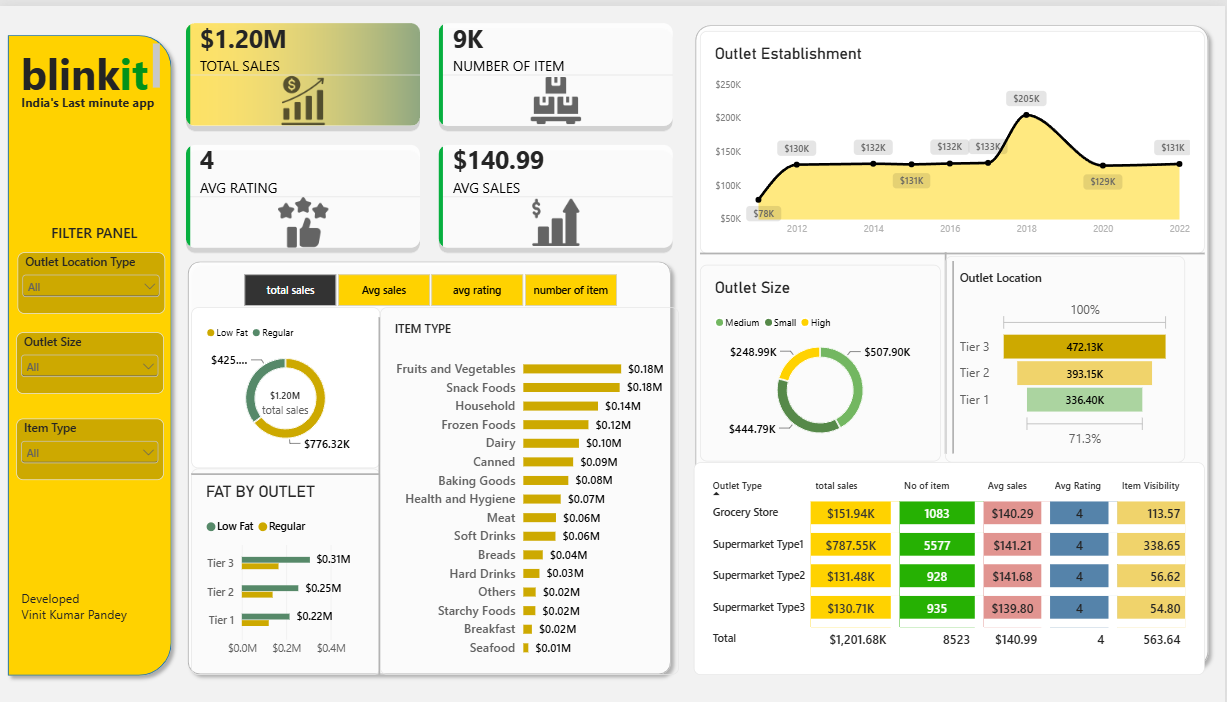

What the dashboard file says about the page in this screenshot:
{"tool":"powerbi","page":{"name":"Page 1","canvas":[1400,800],"ordinal":0},"visuals":[{"type":"shape","box":[0,24.1,205,750],"z":0},{"type":"textbox","box":[24.3,42.9,158.6,57.1],"z":1000},{"type":"textbox","box":[24.3,100,158.6,22.9],"z":2000},{"type":"cardVisual","fields":{"Data":["BlinkIT Grocery Data.total sales","BlinkIT Grocery Data.number of item","BlinkIT Grocery Data.avg rating","BlinkIT Grocery Data.Avg sales"]},"box":[205.1,13.4,570,270],"z":3000},{"type":"shape","box":[205.7,282.9,570,490],"z":4000},{"type":"slicer","fields":{"Values":["Metrics.Metrics"]},"box":[258.7,304.3,465,40],"z":5000},{"type":"donutChart","fields":{"Y":["BlinkIT Grocery Data.total sales"],"Category":["BlinkIT Grocery Data.Item Fat Content"]},"box":[218.5,344.5,215.8,183.6],"z":6000},{"type":"cardVisual","fields":{"Data":["BlinkIT Grocery Data.total sales"]},"box":[272.1,424.9,109.9,61.7],"z":7000},{"type":"clusteredBarChart","title":"FAT BY OUTLET","fields":{"Y":["BlinkIT Grocery Data.total sales"],"Category":["BlinkIT Grocery Data.Outlet Location Type"],"Series":["BlinkIT Grocery Data.Item Fat Content"]},"box":[218.5,528.2,215.8,235.9],"z":8000},{"type":"shape","box":[218.6,528.6,215.7,12.9],"z":9000},{"type":"shape","box":[427.1,355.7,12.9,408.6],"z":10000},{"type":"barChart","title":"ITEM TYPE","fields":{"Y":["BlinkIT Grocery Data.total sales"],"Category":["BlinkIT Grocery Data.Item Type"]},"box":[434.3,344.3,341.4,420],"z":11000},{"type":"shape","box":[785.7,12.9,604.3,751.4],"z":12000},{"type":"lineChart","title":"Outlet Establishment","fields":{"Category":["BlinkIT Grocery Data.Outlet Establishment Year"],"Y":["BlinkIT Grocery Data.total sales"]},"box":[800,28.6,577.1,254.3],"z":13000},{"type":"shape","box":[800,78.6,577.1,408.6],"z":14000},{"type":"donutChart","title":"Outlet Size","fields":{"Y":["BlinkIT Grocery Data.total sales"],"Category":["BlinkIT Grocery Data.Outlet Size"]},"box":[800,295.7,275,225],"z":15000},{"type":"shape","box":[1072.9,281.4,15.7,230],"z":16000},{"type":"funnel","title":"Outlet Location","fields":{"Y":["Sum(BlinkIT Grocery Data.Sales)"],"Category":["BlinkIT Grocery Data.Outlet Location Type"]},"box":[1080,285.7,274.3,235.7],"z":17000},{"type":"shape","box":[797.1,740,577.1,12.9],"z":18000},{"type":"pivotTable","fields":{"Values":["BlinkIT Grocery Data.total sales","BlinkIT Grocery Data.number of item","BlinkIT Grocery Data.Avg sales","BlinkIT Grocery Data.Avg Rating","Sum(BlinkIT Grocery Data.Item Visibility)"],"Rows":["BlinkIT Grocery Data.Outlet Type"]},"box":[792.9,521.4,584.3,242.9],"z":19000},{"type":"slicer","fields":{"Values":["BlinkIT Grocery Data.Outlet Location Type"]},"box":[20,281.4,168.6,70],"z":20000},{"type":"shape","box":[1082.9,291.4,12.9,220],"z":21000},{"type":"slicer","fields":{"Values":["BlinkIT Grocery Data.Outlet Size"]},"box":[18.6,372.9,168.6,70],"z":22000},{"type":"slicer","fields":{"Values":["BlinkIT Grocery Data.Item Type"]},"box":[18.6,471.4,168.6,70],"z":23000},{"type":"textbox","box":[58.6,247.1,112.9,152.9],"z":24000},{"type":"textbox","box":[24.3,667.1,147.1,54.3],"z":24001}]}

Visuals, with their boxes in screenshot pixels (x1, y1, x2, y2), scaled from the page's 1400x800 canvas onto the 1227x702 screenshot:
shape: (0, 21, 180, 679)
textbox: (21, 38, 160, 88)
textbox: (21, 88, 160, 108)
cardVisual - BlinkIT Grocery Data.total sales x BlinkIT Grocery Data.number of item: (180, 12, 679, 249)
shape: (180, 248, 680, 678)
slicer - Metrics.Metrics: (227, 267, 634, 302)
donutChart - BlinkIT Grocery Data.total sales x BlinkIT Grocery Data.Item Fat Content: (191, 302, 381, 463)
cardVisual - BlinkIT Grocery Data.total sales: (238, 373, 335, 427)
"FAT BY OUTLET" clusteredBarChart: (191, 463, 381, 670)
shape: (192, 464, 381, 475)
shape: (374, 312, 386, 671)
"ITEM TYPE" barChart: (381, 302, 680, 671)
shape: (689, 11, 1218, 671)
"Outlet Establishment" lineChart: (701, 25, 1207, 248)
shape: (701, 69, 1207, 428)
"Outlet Size" donutChart: (701, 259, 942, 457)
shape: (940, 247, 954, 449)
"Outlet Location" funnel: (947, 251, 1187, 458)
shape: (699, 649, 1204, 661)
pivotTable - BlinkIT Grocery Data.total sales x BlinkIT Grocery Data.number of item: (695, 458, 1207, 671)
slicer - BlinkIT Grocery Data.Outlet Location Type: (18, 247, 165, 308)
shape: (949, 256, 960, 449)
slicer - BlinkIT Grocery Data.Outlet Size: (16, 327, 164, 389)
slicer - BlinkIT Grocery Data.Item Type: (16, 414, 164, 475)
textbox: (51, 217, 150, 351)
textbox: (21, 585, 150, 633)
